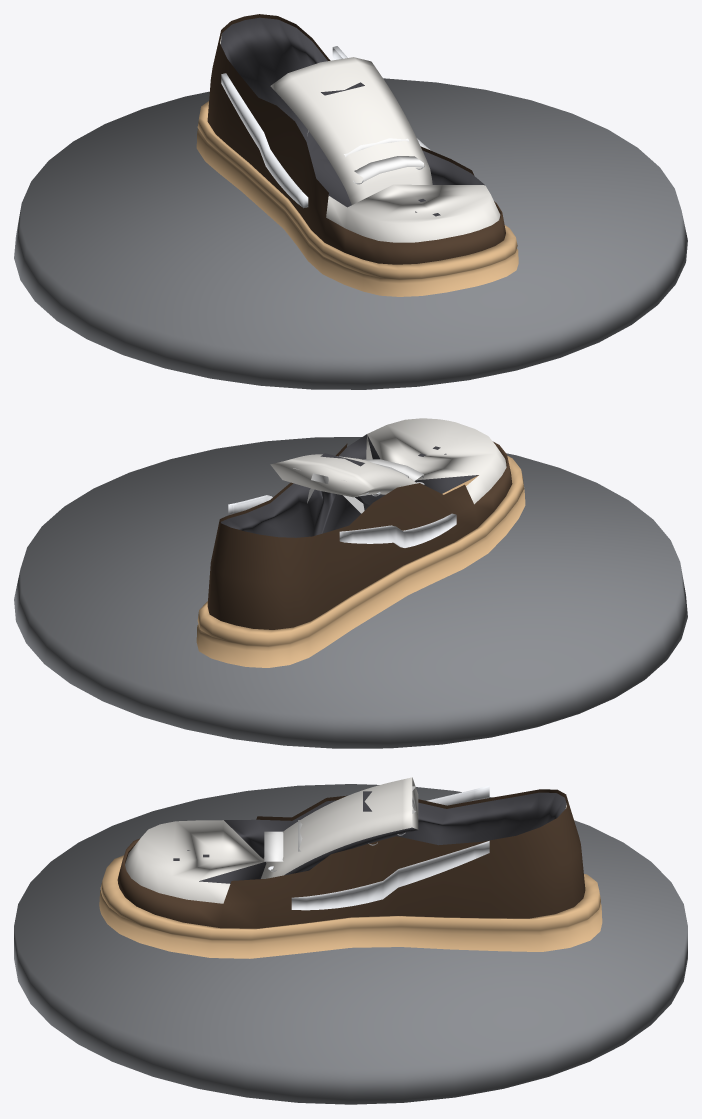
File: test_artisan_sneaker.glb
3 renders of one model, top to bottom at view 1: azimuth 30°, elevation 25°; view 2: azimuth 150°, elevation 25°; view 3: azimuth 270°, elevation 25°, orthographic.
Parts seen in each view (by area): view 1: Sneaker_Pedestal, Sneaker_Upper, Sneaker_Design_Layers, Sneaker_Tongue, Sneaker_Sole, Sneaker_Laces; view 2: Sneaker_Pedestal, Sneaker_Design_Layers, Sneaker_Upper, Sneaker_Sole, Sneaker_Tongue, Sneaker_Laces; view 3: Sneaker_Pedestal, Sneaker_Design_Layers, Sneaker_Sole, Sneaker_Upper, Sneaker_Tongue, Sneaker_Laces.
Boxes of the visible parts, x1,y1,x2,y2 form: Sneaker_Pedestal: [14, 78, 687, 389]; Sneaker_Upper: [220, 17, 500, 242]; Sneaker_Design_Layers: [207, 14, 505, 264]; Sneaker_Tongue: [270, 57, 432, 204]; Sneaker_Sole: [196, 101, 518, 296]; Sneaker_Laces: [307, 130, 424, 184]; Sneaker_Pedestal: [14, 437, 687, 748]; Sneaker_Design_Layers: [207, 441, 512, 629]; Sneaker_Upper: [221, 418, 506, 537]; Sneaker_Sole: [196, 456, 525, 667]; Sneaker_Tongue: [270, 453, 416, 505]; Sneaker_Laces: [293, 459, 424, 513]; Sneaker_Pedestal: [14, 784, 687, 1104]; Sneaker_Design_Layers: [117, 785, 585, 928]; Sneaker_Sole: [99, 855, 602, 958]; Sneaker_Upper: [125, 792, 566, 903]; Sneaker_Tongue: [261, 777, 418, 878]; Sneaker_Laces: [264, 786, 415, 871].
Size of the model in its own units: 0.3485 by 0.0935 by 0.34.
